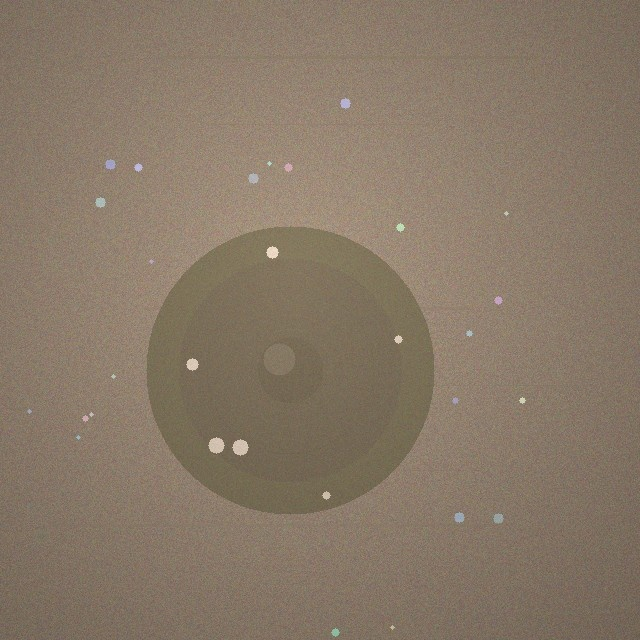overburn: (146, 226, 434, 514)
